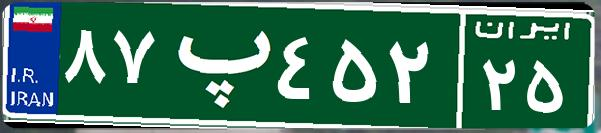2: (385, 28, 445, 110), (475, 38, 525, 113)
4: (273, 28, 330, 110)
5: (330, 28, 385, 110), (525, 38, 570, 115)
7: (110, 28, 158, 105)
8: (57, 26, 110, 107)
پ: (158, 15, 273, 115)
